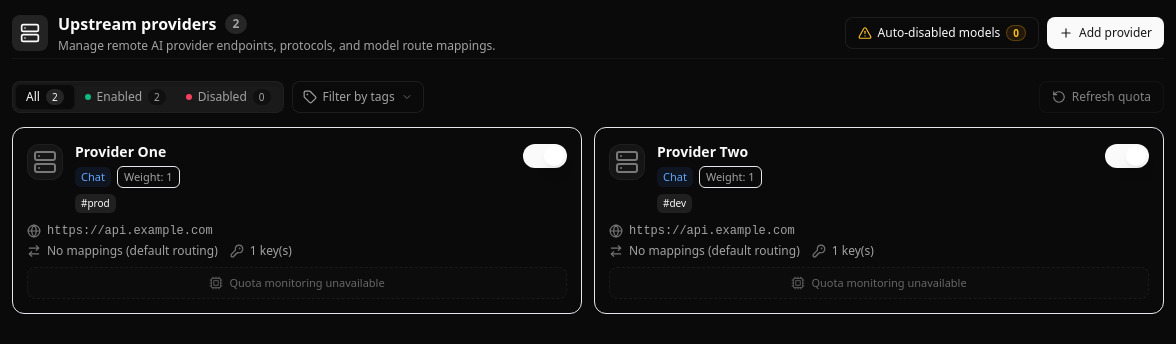
Scenario: UpstreamProviderList 标签展示与紧凑多选筛选 & 自定义图标 › 当标签与状态过滤导致无结果时显示微空态，点击重置全部恢复
This screenshot has width=1176, height=344.
Click the button with test id "ai-gateway-tag-filter-trigger".
click(358, 97)  # box [292, 81, 424, 113]
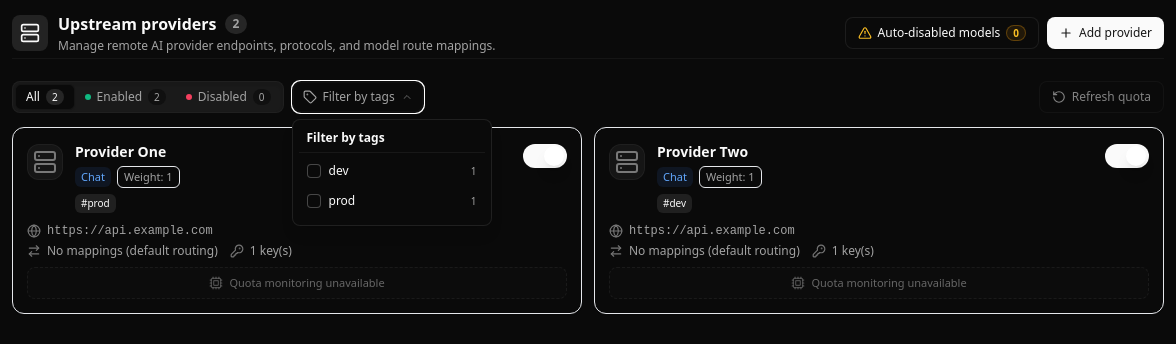
Click the button with test id "ai-gateway-tag-option-dev".
click(392, 171)  # box [298, 157, 484, 185]
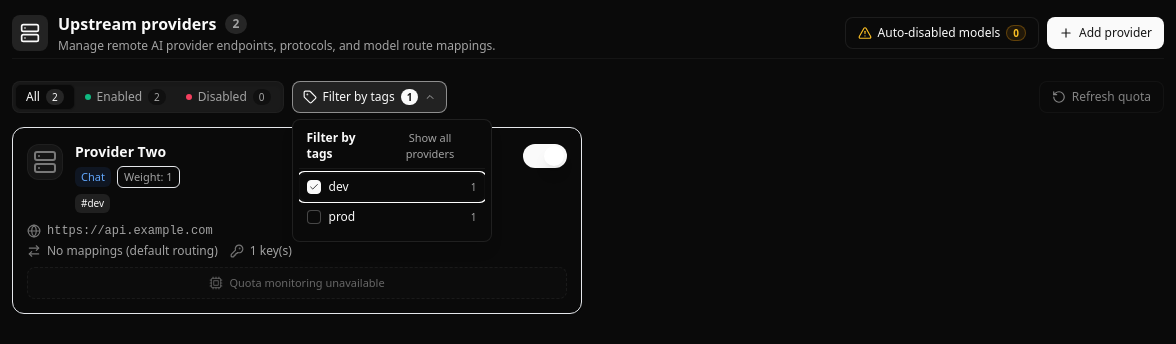
// 筛选已禁用（p2 实际为已启用），导致结果为 0
Click the button with test id "filter-status-disabled".
click(228, 97)  # box [176, 85, 280, 109]
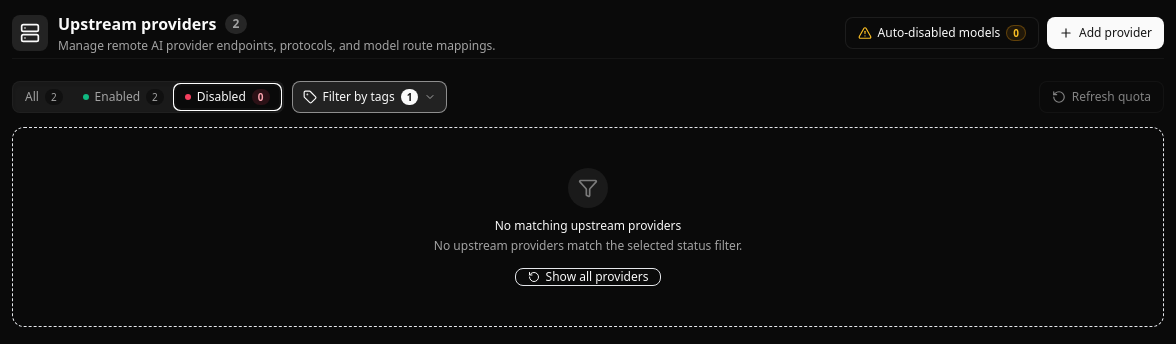
Check: the element with test id "ai-gateway-providers-filter-empty" is shown, box [12, 127, 1164, 327]
Click the button "Show all providers".
click(588, 277)  # box [515, 268, 661, 286]
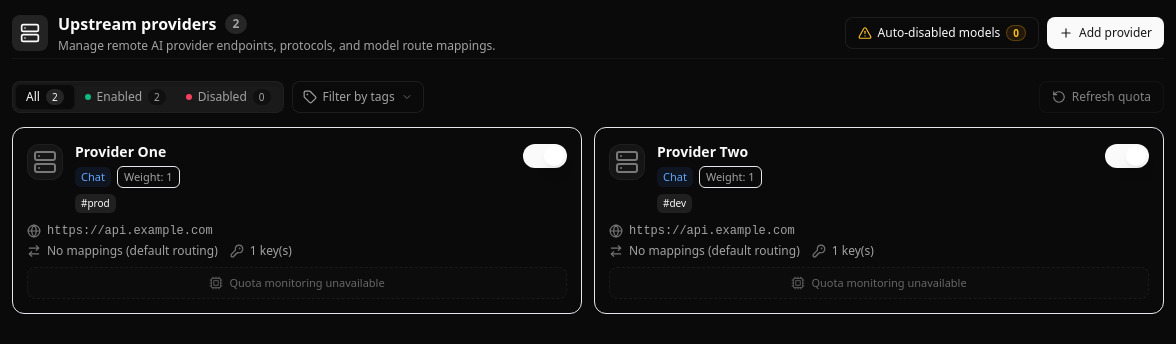
Check: the element with test id "ai-gateway-provider-p1" is shown, box [12, 127, 582, 314]
Check: the element with test id "ai-gateway-provider-p2" is shown, box [594, 127, 1164, 314]
